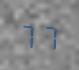seven: (19, 18, 38, 49), (39, 20, 58, 50)
